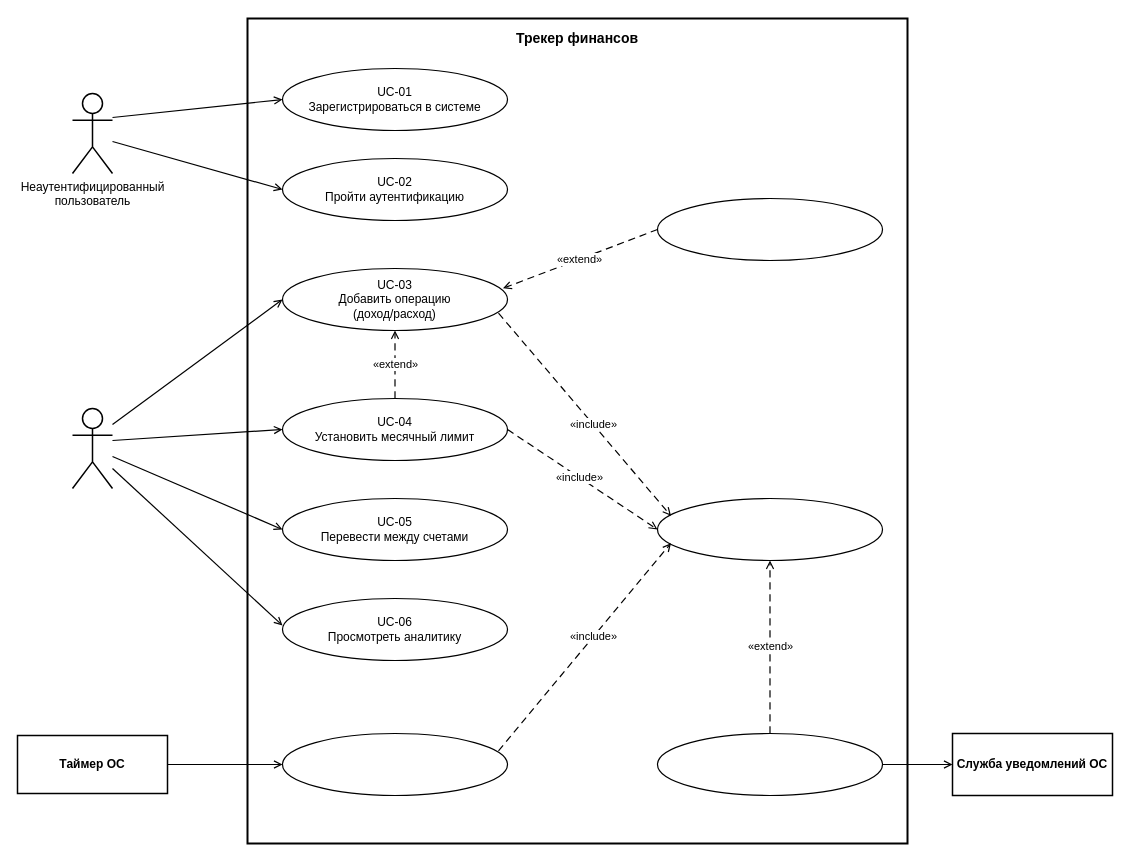
Image size: 1131x861. Some labels were removed from this diagram. The centre of each missing label's shape, as x and y in pixels:
"UC-07 Выполнить регулярные платежи" goes at point 394,764.
"UC-08 Уведомить о достижении лимита" goes at point 769,764.
"UC-09 Пересчитать баланс и лимит" goes at point 769,529.
"UC-10 Автокатегоризировать операцию" goes at point 769,229.
"Аутентифицированный пользователь" goes at point 92,448.
